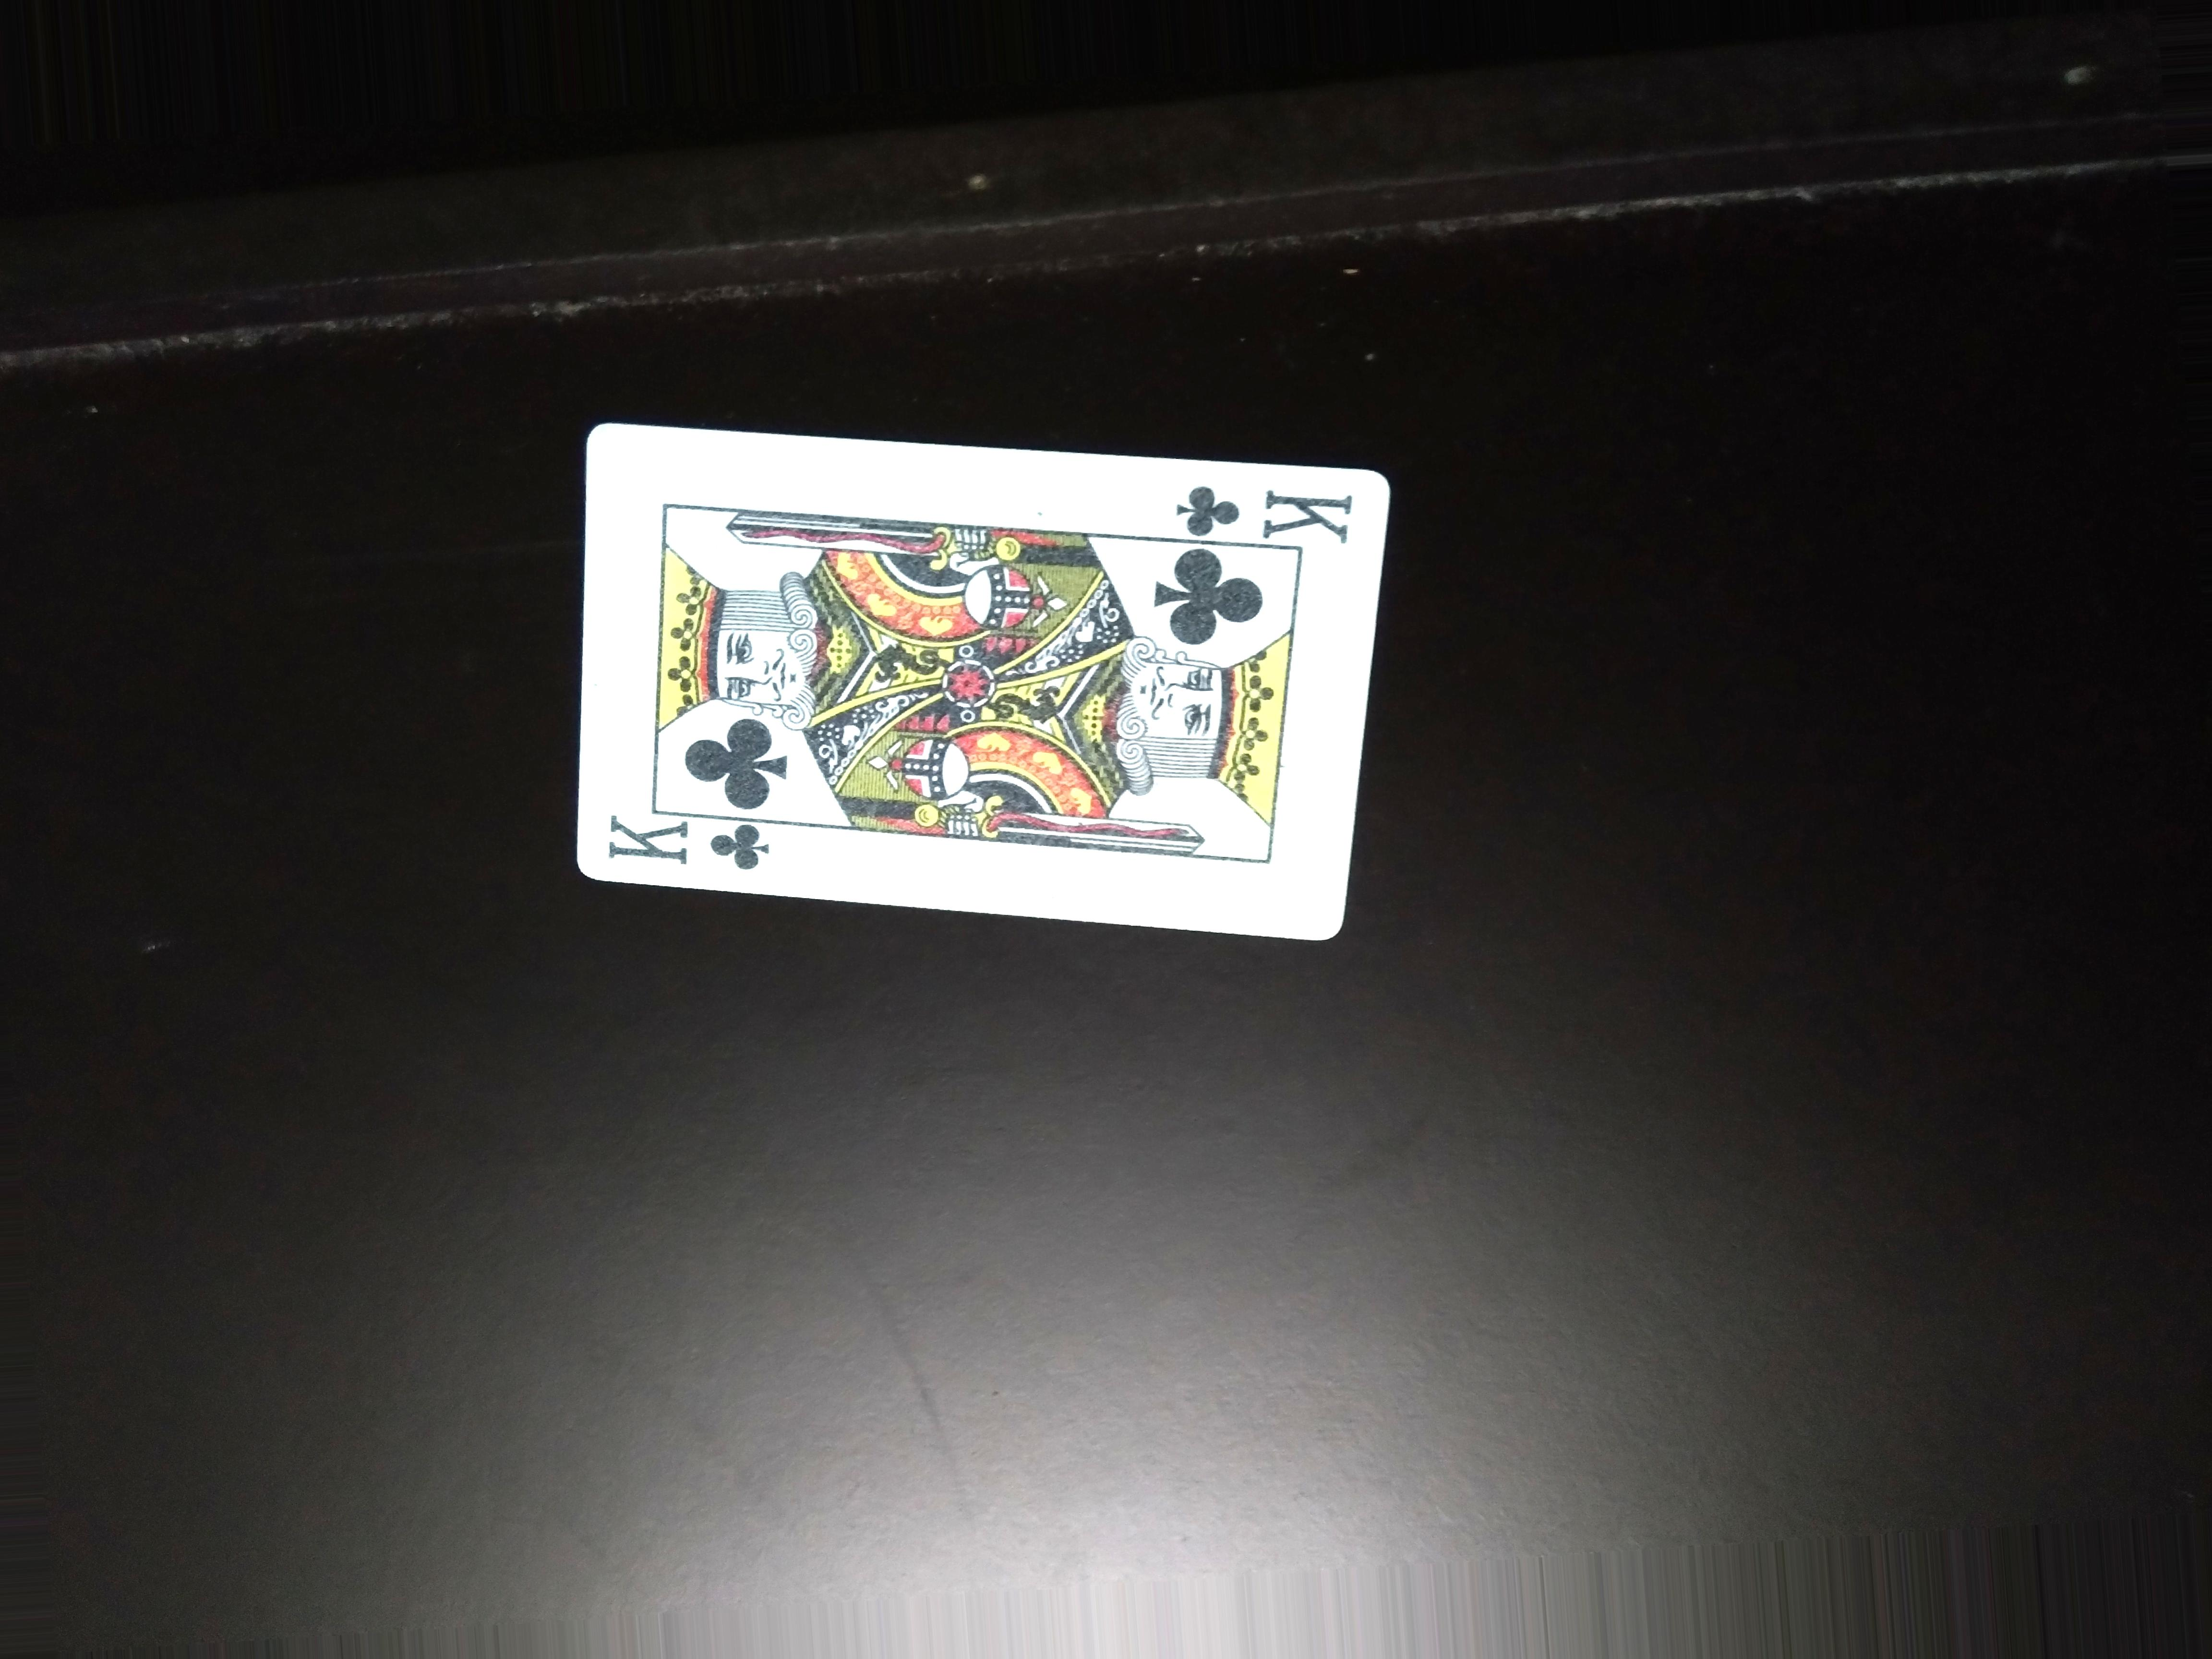KC: (597, 807, 782, 863)
